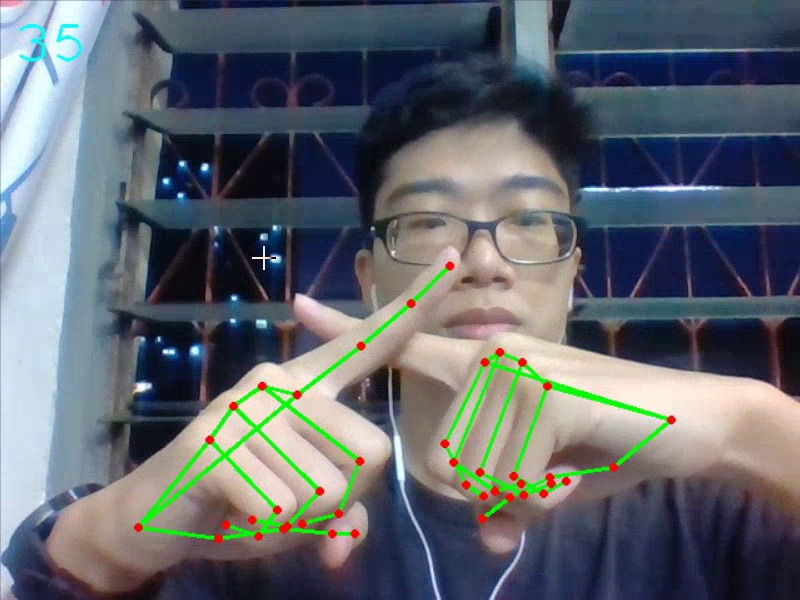No: (131, 259, 675, 546)
